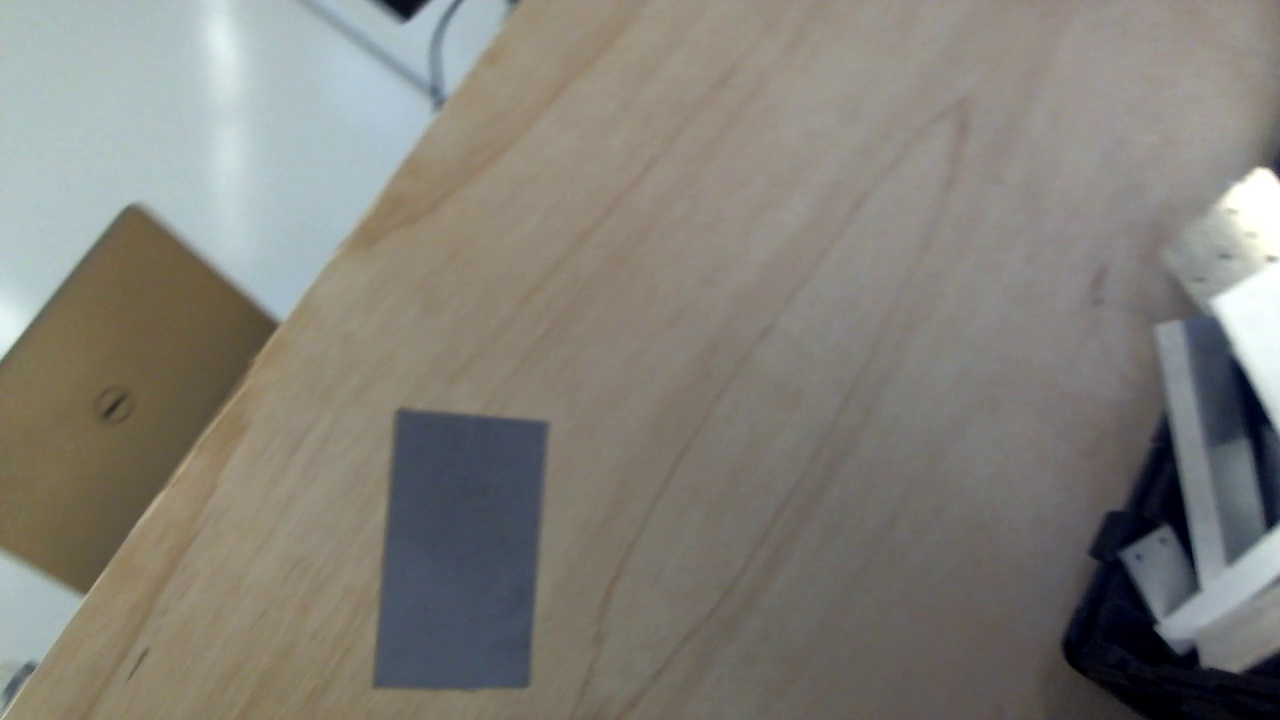Tape: (373, 407, 549, 691)
